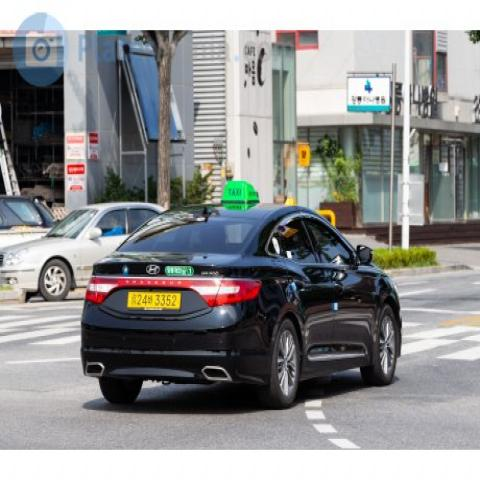LP: (116, 281, 190, 317)
